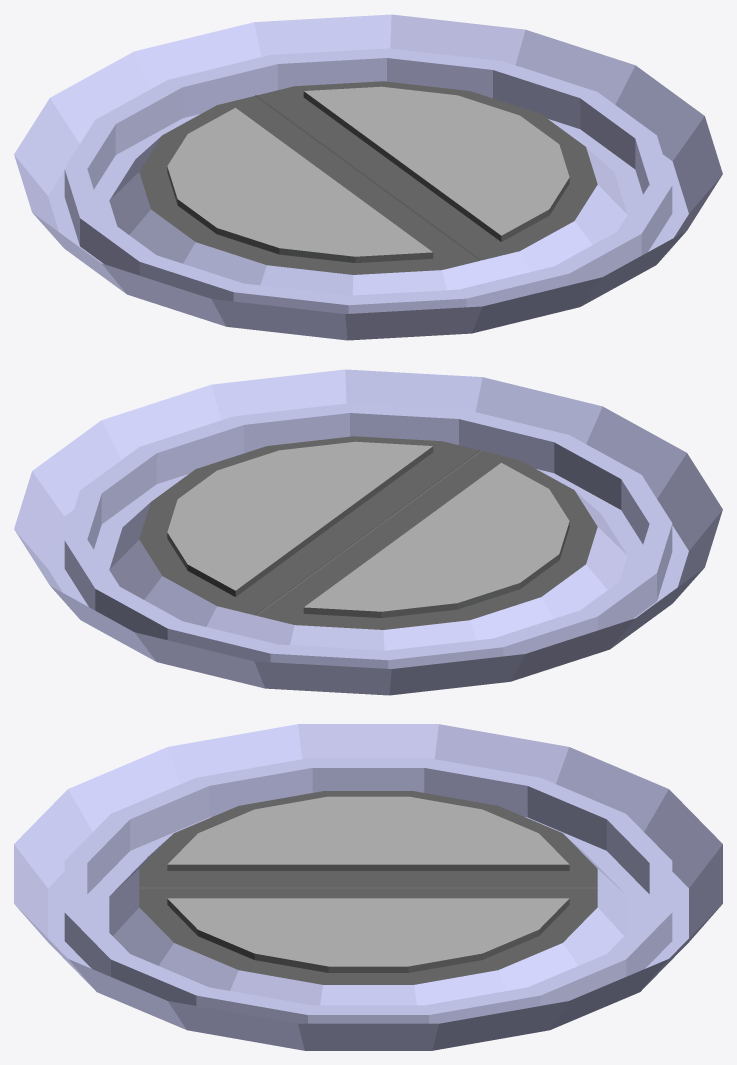
Rendered from Coupler2.fbx.
The picture shows the model from 3 angles, top to bottom: view 1: azimuth 30°, elevation 25°; view 2: azimuth 150°, elevation 25°; view 3: azimuth 270°, elevation 25°; orthographic projection.
Visible parts, largest first — view 1: Cylinder.006; view 2: Cylinder.006; view 3: Cylinder.006.
Boxes of the visible parts, left/top/right/bottom form: Cylinder.006: left=14, top=14, right=722, bottom=340; Cylinder.006: left=14, top=369, right=722, bottom=695; Cylinder.006: left=14, top=724, right=722, bottom=1050.
Size of the model in its own units: 5864 by 404 by 5864.
